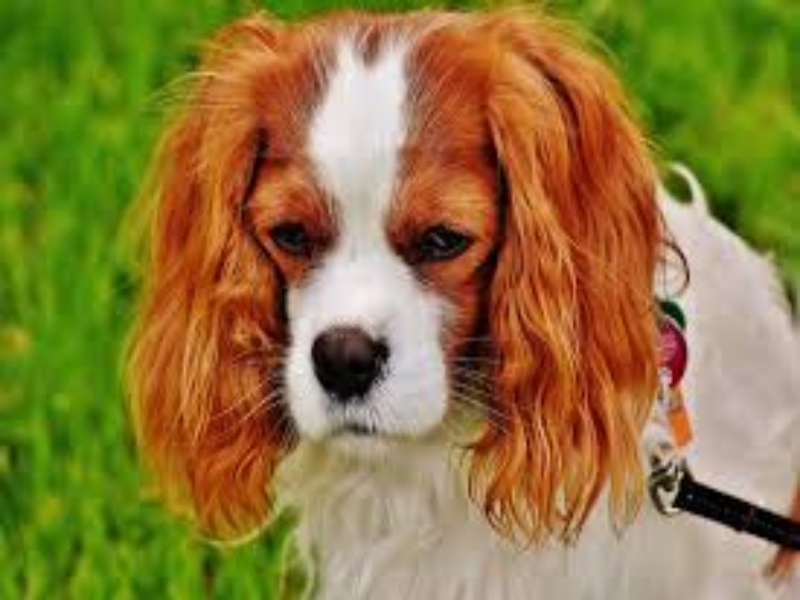dog: (81, 13, 735, 583)
